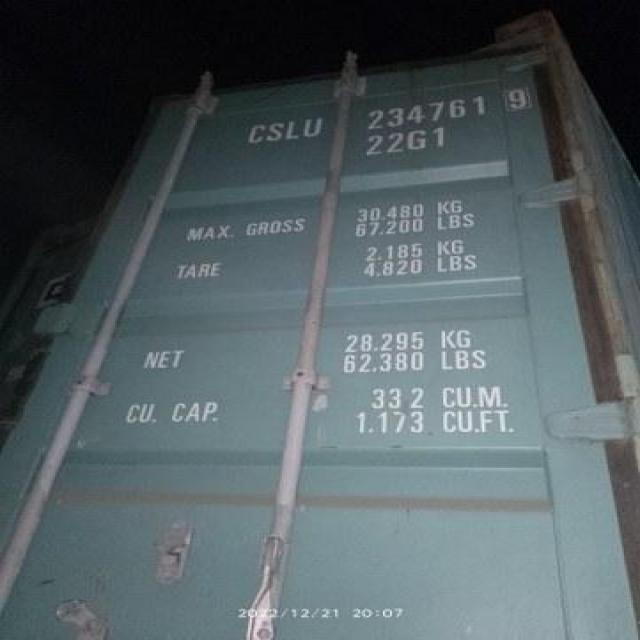ISO: (357, 128, 448, 162)
container_number: (243, 94, 524, 144)
